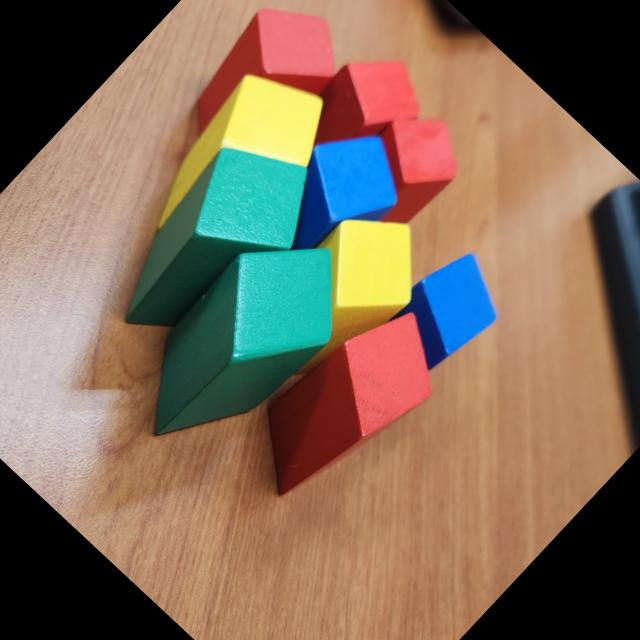blue: (248, 107, 424, 286), (376, 238, 518, 382)
green: (108, 205, 376, 479), (89, 117, 339, 372)
red: (226, 282, 467, 528), (168, 0, 364, 178), (290, 33, 438, 183), (334, 95, 479, 242)
yellow: (126, 49, 349, 277), (263, 192, 447, 378)
